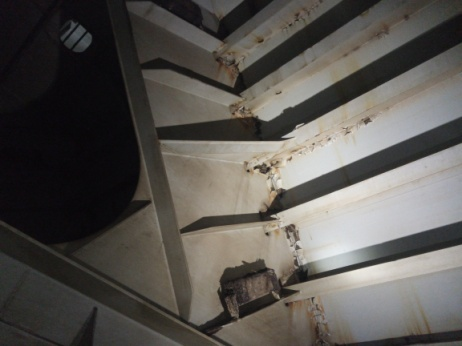corrosion: (296, 302, 344, 343), (391, 296, 438, 336), (340, 21, 410, 46), (267, 220, 306, 257), (205, 45, 240, 75), (336, 114, 376, 131), (224, 106, 258, 121), (245, 165, 282, 177)
